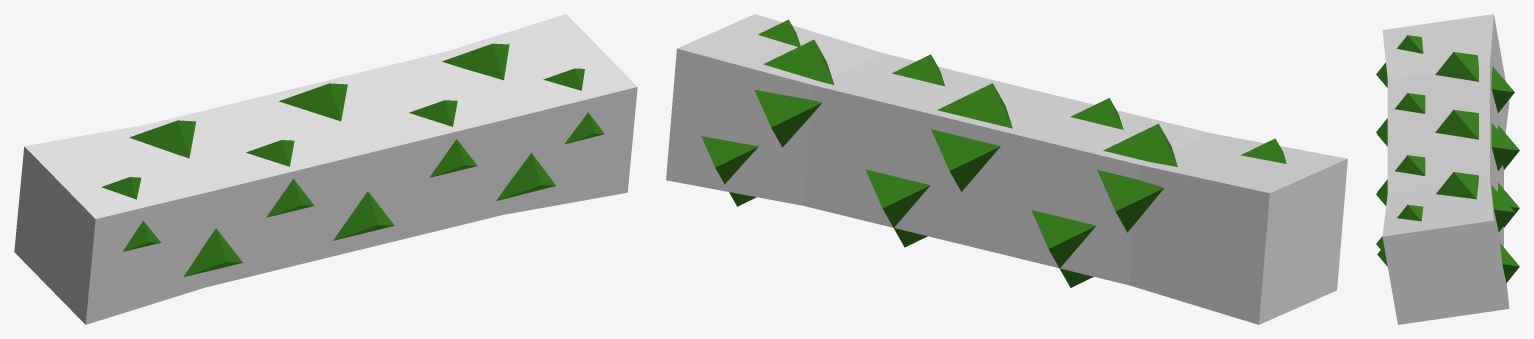
The model's file is Obstacle.fbx.
3 views of the same model, side by side, from view 1: azimuth 30°, elevation 25°; view 2: azimuth 150°, elevation 25°; view 3: azimuth 270°, elevation 25° (orthographic). The views are drawn at different scales.
Parts seen in each view (by area): view 1: Cube, Cube.005, Cube.003, Cube.004, Cube.002, Cube.006, Cube.009, Cube.008, Cube.010, Cube.007, Cube.001; view 2: Cube, Cube.004, Cube.002, Cube.006, Cube.012, Cube.011, Cube.013, Cube.003, Cube.005, Cube.001, Cube.007; view 3: Cube, Cube.004, Cube.002, Cube.006, Cube.003, Cube.005, Cube.001, Cube.007, Cube.013, Cube.012, Cube.011.
Part boxes in pixels (left/top/right/bottom): Cube: left=14, top=14, right=637, bottom=324; Cube.005: left=409, top=100, right=477, bottom=177; Cube.003: left=246, top=140, right=314, bottom=217; Cube.004: left=279, top=83, right=347, bottom=121; Cube.002: left=129, top=120, right=195, bottom=158; Cube.006: left=442, top=43, right=509, bottom=80; Cube.009: left=333, top=191, right=394, bottom=240; Cube.008: left=183, top=228, right=242, bottom=276; Cube.010: left=496, top=153, right=555, bottom=200; Cube.007: left=543, top=68, right=604, bottom=144; Cube.001: left=101, top=177, right=160, bottom=251; Cube: left=666, top=14, right=1347, bottom=324; Cube.004: left=931, top=83, right=1012, bottom=191; Cube.002: left=1097, top=123, right=1177, bottom=232; Cube.006: left=754, top=40, right=834, bottom=147; Cube.012: left=865, top=169, right=930, bottom=247; Cube.011: left=1031, top=210, right=1096, bottom=287; Cube.013: left=701, top=136, right=758, bottom=206; Cube.003: left=1070, top=98, right=1123, bottom=129; Cube.005: left=892, top=54, right=944, bottom=86; Cube.001: left=1241, top=138, right=1286, bottom=163; Cube.007: left=758, top=19, right=800, bottom=46; Cube: left=1382, top=14, right=1509, bottom=324; Cube.004: left=1435, top=109, right=1514, bottom=170; Cube.002: left=1435, top=52, right=1514, bottom=112; Cube.006: left=1436, top=172, right=1514, bottom=232; Cube.003: left=1376, top=93, right=1425, bottom=145; Cube.005: left=1376, top=155, right=1425, bottom=205; Cube.001: left=1376, top=35, right=1423, bottom=87; Cube.007: left=1376, top=204, right=1423, bottom=254; Cube.013: left=1500, top=243, right=1519, bottom=282; Cube.012: left=1498, top=182, right=1519, bottom=227; Cube.011: left=1498, top=125, right=1519, bottom=169.
Size of the model in its own units: 149 by 41.36 by 43.89.
